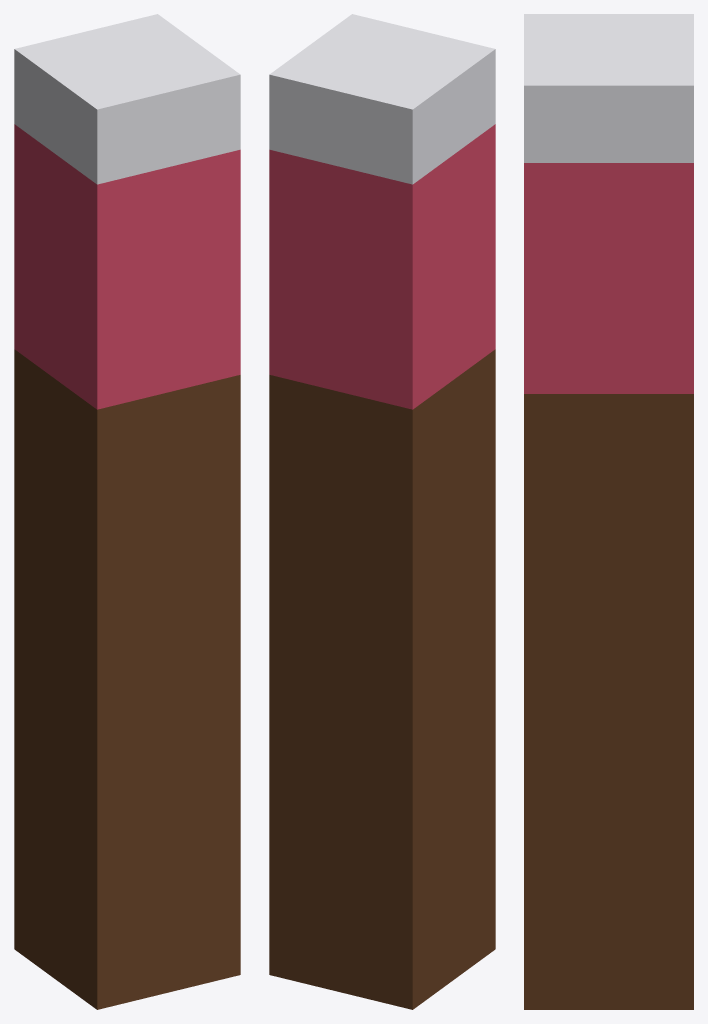
The model's file is arm.obj.
3 views of the same model, side by side, from view 1: azimuth 30°, elevation 25°; view 2: azimuth 150°, elevation 25°; view 3: azimuth 270°, elevation 25° (orthographic). The views are drawn at different scales.
Bounding box in the file's own units: 0.2 × 1.2 × 0.2.
1 material, 1 textured.
